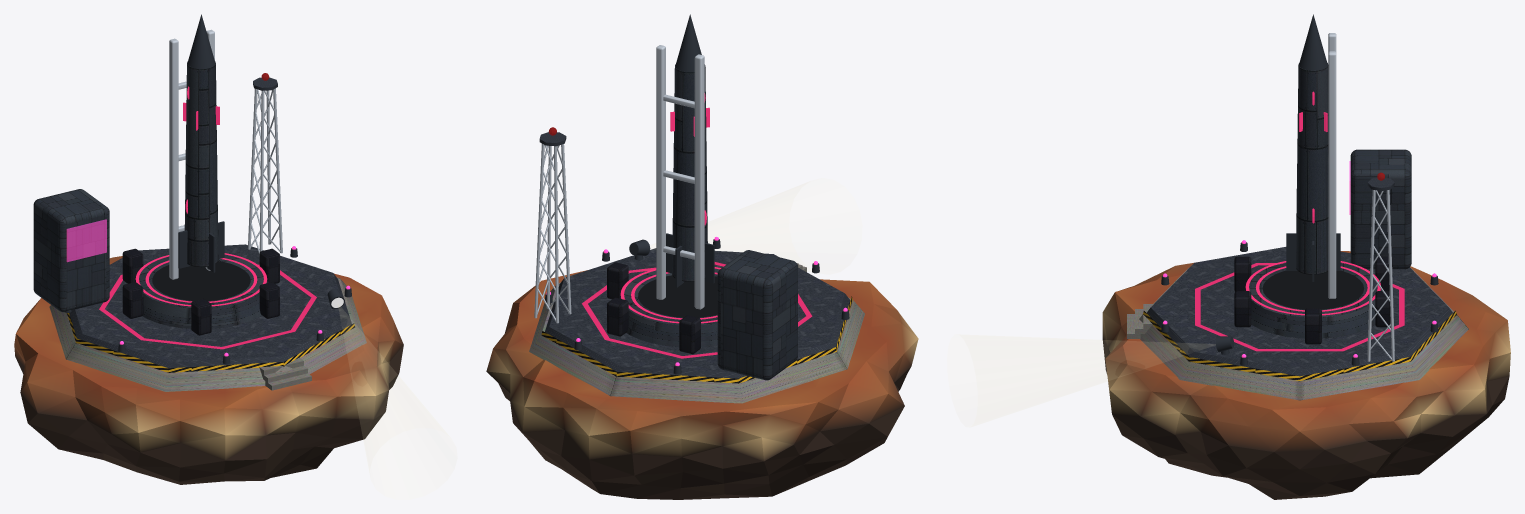
File: hypersonic-L75.glb
3 views of the same model, side by side, from view 1: azimuth 30°, elevation 25°; view 2: azimuth 150°, elevation 25°; view 3: azimuth 270°, elevation 25° (orthographic). The views are drawn at different scales.
Visible parts, largest first — view 1: object 1, object 4, object 37, anim:missile, object 2, object 25, object 26, anim:erector, object 3, object 38, object 5, object 32 (+5 smaller); view 2: object 1, object 4, object 37, object 2, anim:missile, anim:erector, object 25, object 26, object 3, object 5, object 33, object 34 (+1 smaller); view 3: object 1, object 4, anim:missile, object 2, object 37, object 25, object 26, anim:erector, object 3, object 5, object 30, object 29.
Part boxes in pixels (box(x1,y1,x2,y2)): object 1: box(14, 256, 403, 484); object 4: box(69, 244, 351, 368); object 37: box(33, 189, 109, 312); anim:missile: box(178, 14, 224, 272); object 2: box(49, 277, 366, 391); object 25: box(135, 255, 268, 328); object 26: box(152, 261, 250, 300); anim:erector: box(169, 29, 214, 279); object 3: box(66, 313, 354, 372); object 38: box(66, 219, 106, 261); object 5: box(99, 264, 316, 349); object 32: box(122, 282, 143, 318); object 1: box(486, 270, 918, 499); object 4: box(545, 248, 850, 378); object 37: box(717, 250, 797, 380); object 2: box(529, 282, 864, 403); anim:missile: box(666, 14, 714, 287); anim:erector: box(656, 45, 704, 309); object 25: box(619, 269, 719, 346); object 26: box(638, 275, 717, 317); object 3: box(541, 296, 852, 383); object 5: box(582, 262, 812, 358); object 33: box(679, 315, 700, 354); object 34: box(607, 297, 628, 336); object 1: box(1102, 251, 1510, 499); object 4: box(1147, 247, 1452, 376); anim:missile: box(1286, 14, 1340, 281); object 2: box(1139, 267, 1468, 400); object 37: box(1350, 149, 1411, 269); object 25: box(1244, 263, 1381, 338); object 26: box(1262, 270, 1364, 309); anim:erector: box(1328, 33, 1336, 298); object 3: box(1143, 310, 1456, 380); object 5: box(1195, 263, 1404, 351); object 30: box(1234, 291, 1251, 327); object 29: box(1305, 308, 1321, 344).
Bounding box in the file's own units: 6.28 × 6.95 × 8.32.
Materials: 16 (5 with a texture image).
